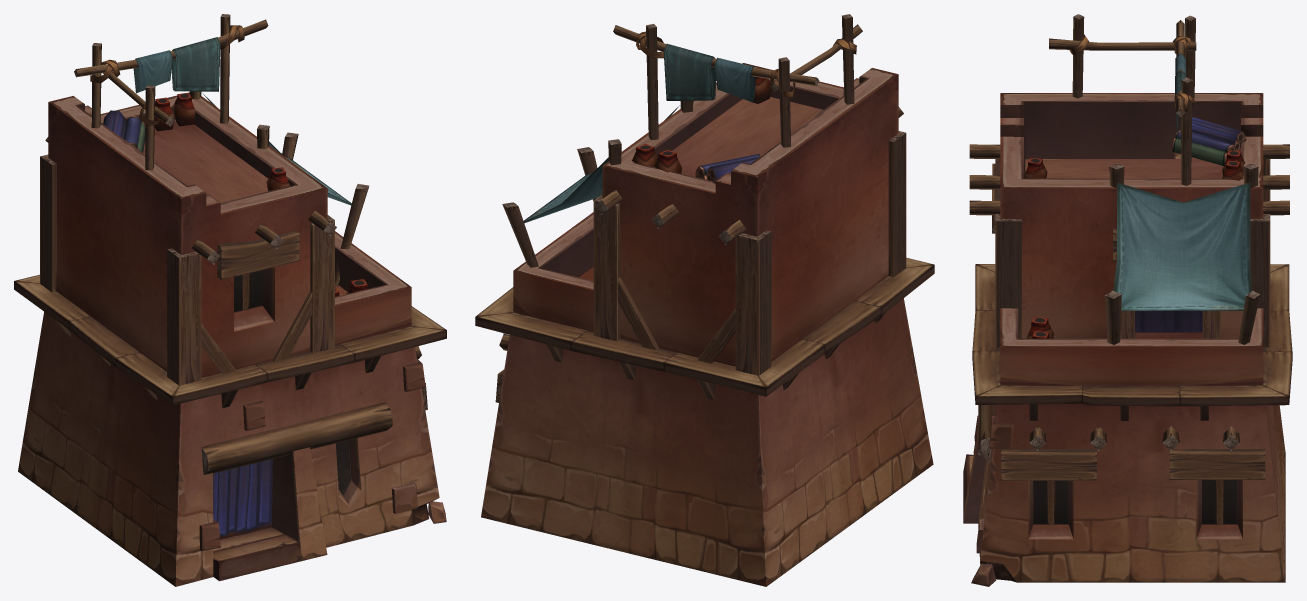
File: SV_BUD_desert_pingfang2_0.FBX
3 renders of one model, left to right at view 1: azimuth 30°, elevation 25°; view 2: azimuth 150°, elevation 25°; view 3: azimuth 270°, elevation 25°, orthographic. The views are drawn at different scales.
Visible parts, largest first — view 1: SV_BUD_desert_pingfang2_0; view 2: SV_BUD_desert_pingfang2_0; view 3: SV_BUD_desert_pingfang2_0.
Part boxes in pixels (x1,y1,x2,y2): SV_BUD_desert_pingfang2_0: (14,14,446,586); SV_BUD_desert_pingfang2_0: (475,14,934,586); SV_BUD_desert_pingfang2_0: (963,14,1292,586).
Size of the model in its own units: 6.13 by 9.41 by 6.24.
